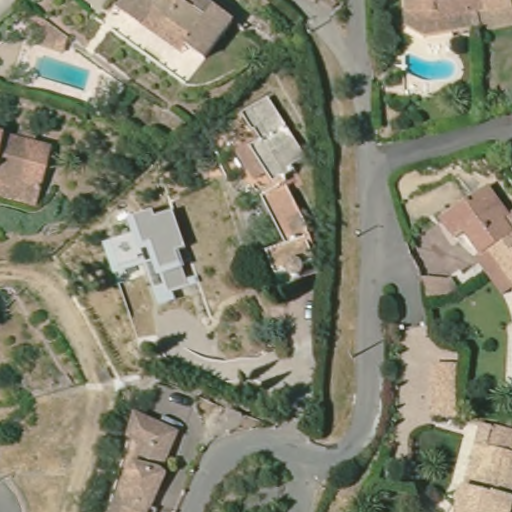pool: (29, 53, 98, 96), (399, 50, 464, 87)
